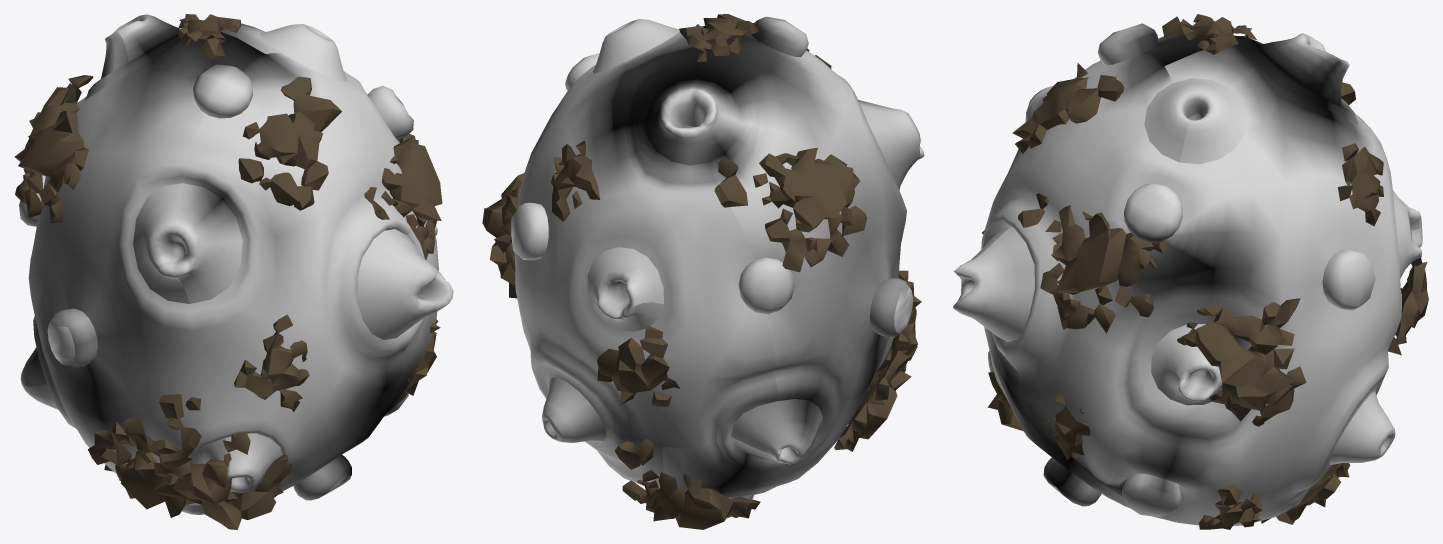
File: p_mesh_gaspotato01_large_pose1.fbx
3 renders of one model, left to right at view 1: azimuth 30°, elevation 25°; view 2: azimuth 150°, elevation 25°; view 3: azimuth 270°, elevation 25°, orthographic. The views are drawn at different scales.
Parts seen in each view (by area): view 1: p_mesh_gaspotato03_pose1; view 2: p_mesh_gaspotato03_pose1; view 3: p_mesh_gaspotato03_pose1.
Boxes of the visible parts, bbox=[...] form: p_mesh_gaspotato03_pose1: bbox=[14, 14, 453, 529]; p_mesh_gaspotato03_pose1: bbox=[482, 14, 924, 529]; p_mesh_gaspotato03_pose1: bbox=[953, 14, 1428, 529].
Bounding box in the file's own units: 53.47 × 62.31 × 53.21.
